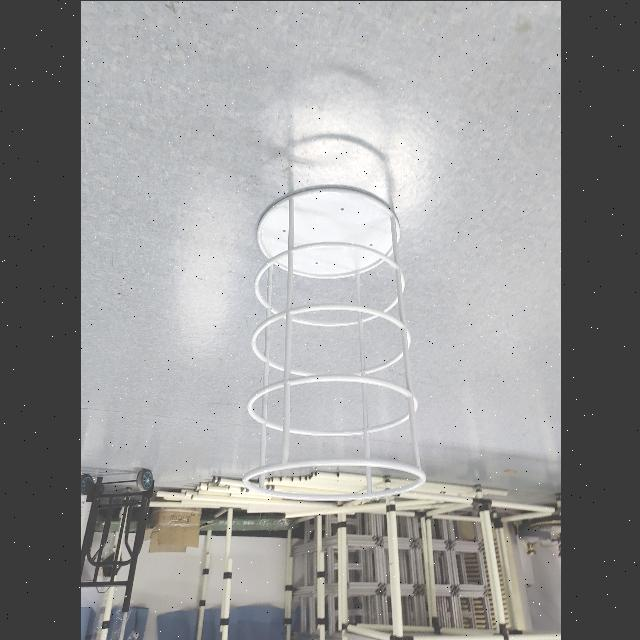S: (237, 183, 429, 502)
